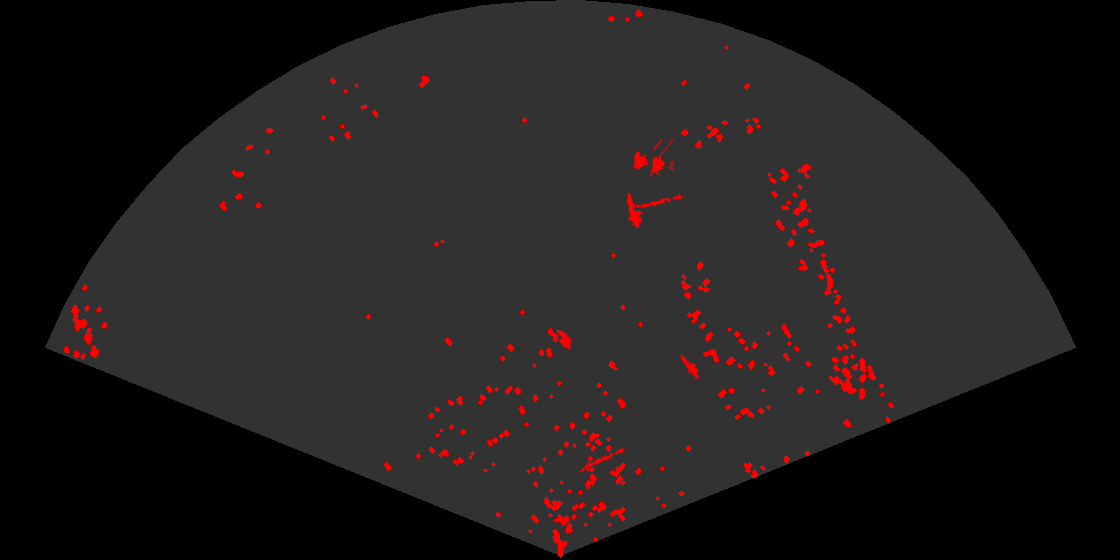AUV: (555, 329, 574, 351)
cage: (632, 139, 674, 178)
chain: (574, 446, 627, 475), (633, 193, 685, 210)
frogman: (625, 192, 645, 228), (679, 352, 700, 379)
